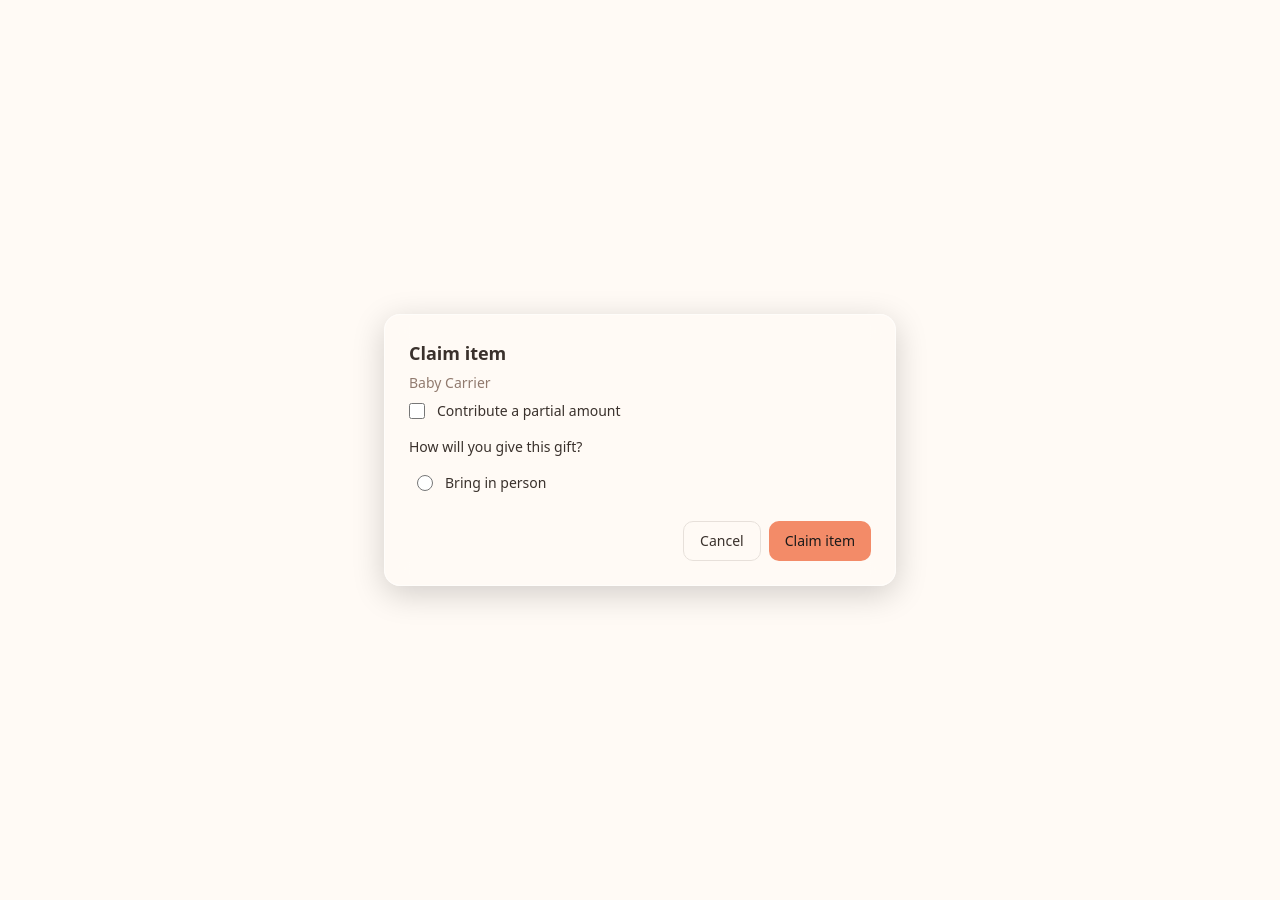
ClaimDialog — delivery option required › shows error when submitting without selecting a delivery option
Click the button "Claim item" at (820, 541), box [769,521,871,561]
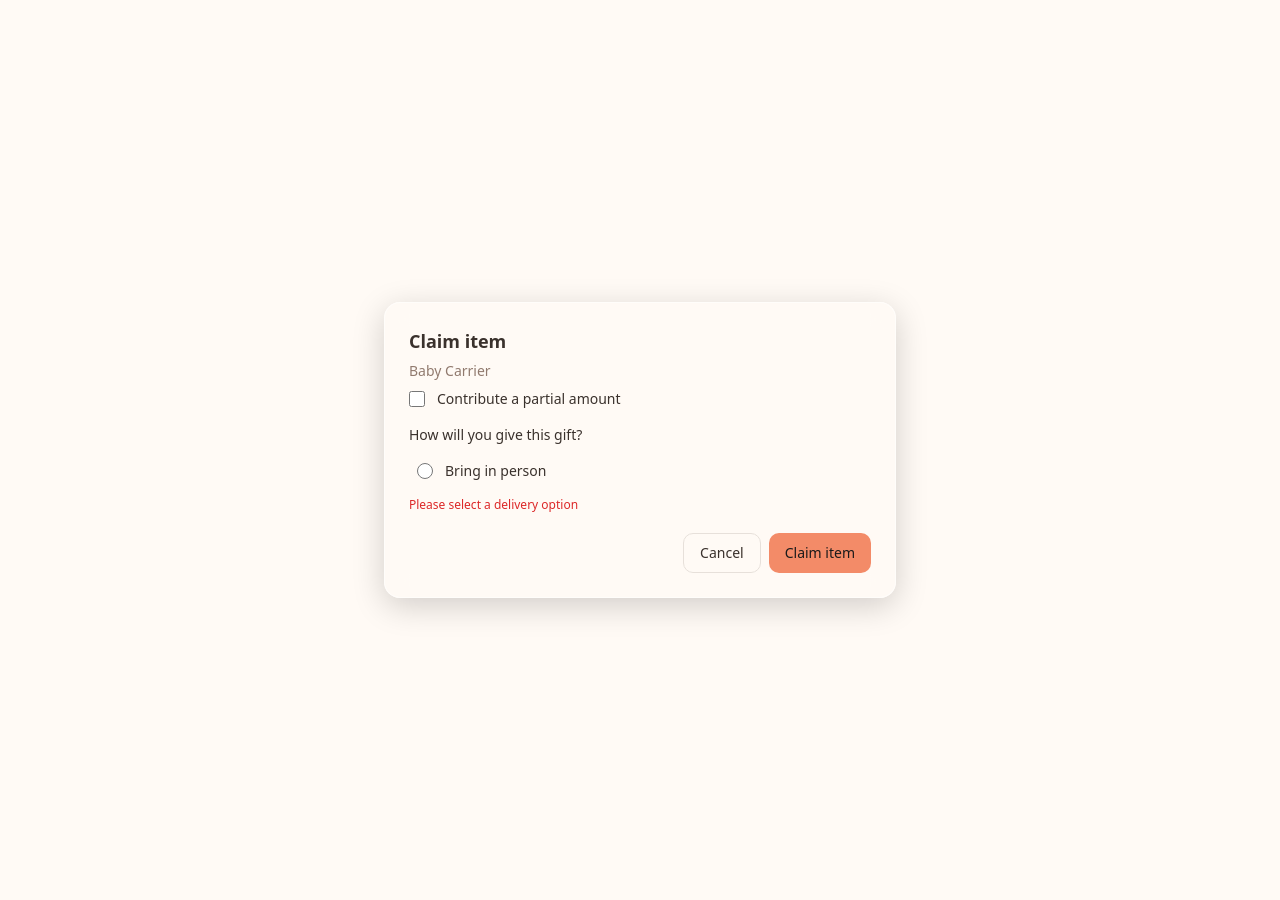
Now the text "Please select a delivery option" is shown, box [409,496,578,513]
